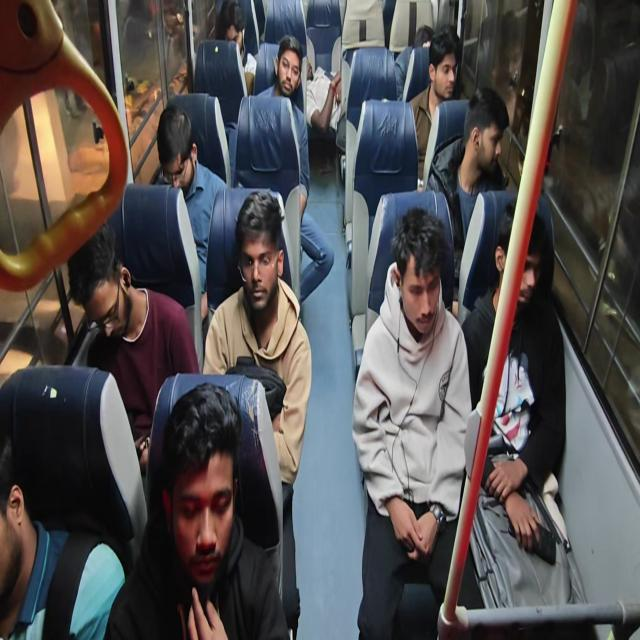person: (352, 207, 473, 638), (202, 189, 312, 636), (103, 381, 291, 639), (460, 201, 574, 608), (66, 221, 200, 473), (0, 438, 127, 639), (256, 34, 336, 302), (425, 85, 510, 281), (155, 102, 227, 320), (256, 34, 311, 218), (257, 34, 342, 135), (408, 27, 461, 185), (490, 9, 526, 129), (214, 0, 257, 96), (394, 24, 435, 100)
